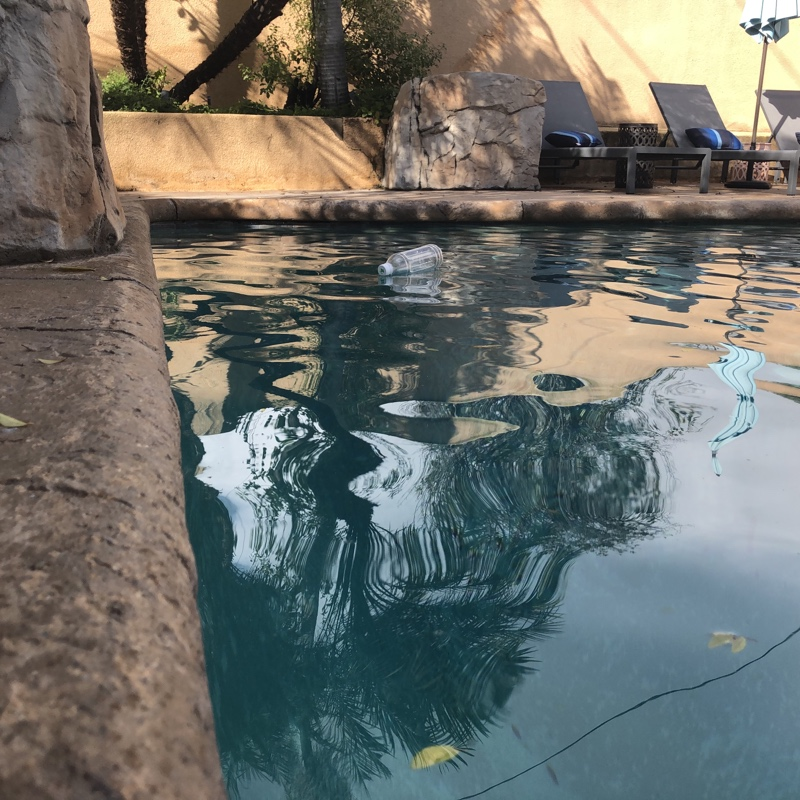Plastic Bottle: (375, 241, 446, 278)
